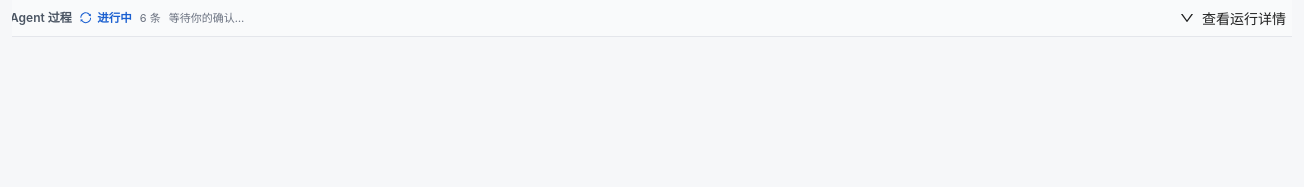
Test: AgentActivityPanel › 事件按顺序渲染成时间线行
Step 1. Click the button "查看运行详情" → (1232, 18), box [1172,6,1292,30]
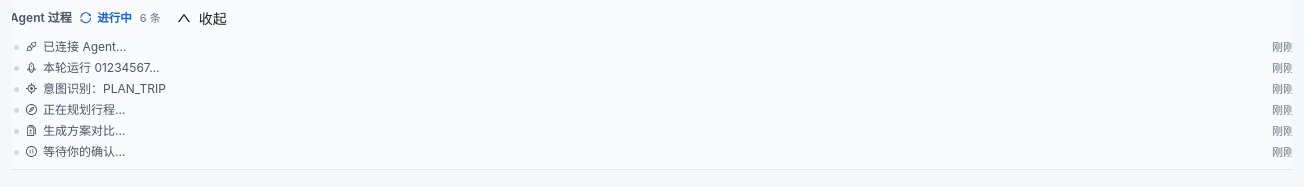
Result: the text "已连接 Agent…" is shown at [43,39,126,54]
Result: the text "本轮运行 01234567…" is shown at [43,60,160,75]
Result: the text "意图识别：PLAN_TRIP" is shown at [43,81,166,96]
